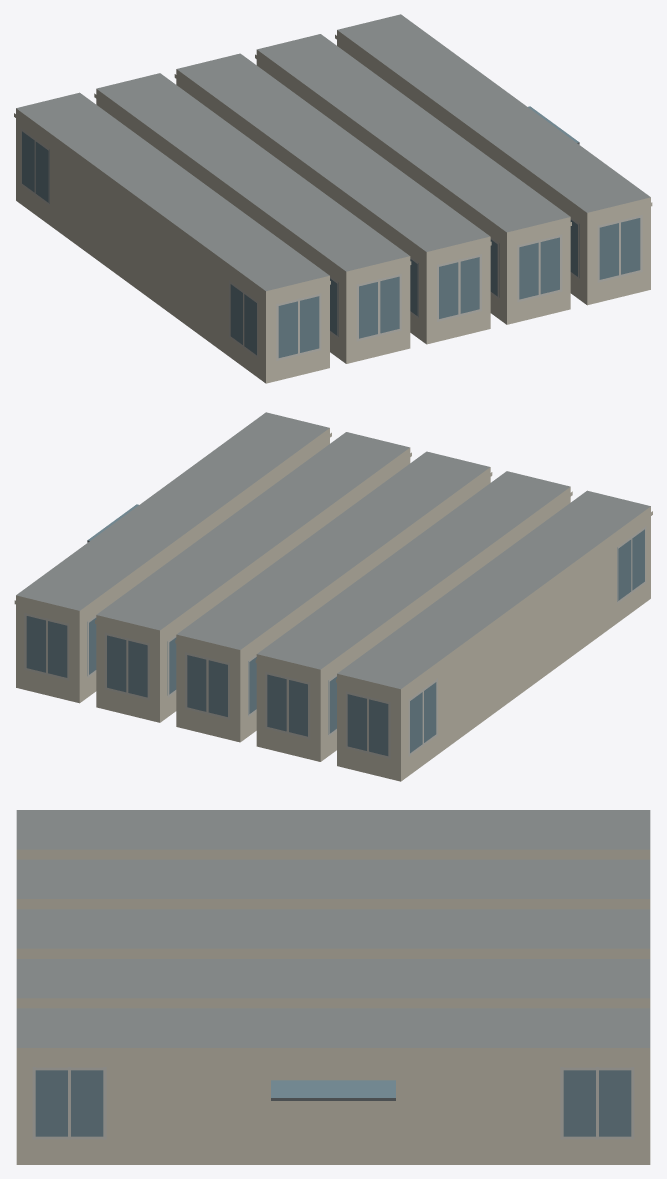
3 renders of one model, top to bottom at view 1: azimuth 30°, elevation 25°; view 2: azimuth 150°, elevation 25°; view 3: azimuth 270°, elevation 25°, orthographic. The views are drawn at different scales.
Parts seen in each view (by area): view 1: buildings_s_-7_-7_Standing_Seam_Roof, buildings_s_-7_-7_Warm_Limestone, buildings_s_-7_-7_Recessed_Blue_Glass, buildings_s_-7_-7_Window_Stone_Frame; view 2: buildings_s_-7_-7_Standing_Seam_Roof, buildings_s_-7_-7_Warm_Limestone, buildings_s_-7_-7_Recessed_Blue_Glass, buildings_s_-7_-7_Window_Stone_Frame; view 3: buildings_s_-7_-7_Standing_Seam_Roof, buildings_s_-7_-7_Warm_Limestone, buildings_s_-7_-7_Recessed_Blue_Glass, buildings_s_-7_-7_Window_Stone_Frame.
Boxes of the visible parts, x1,y1,x2,y2 form: buildings_s_-7_-7_Standing_Seam_Roof: (16,14,650,291); buildings_s_-7_-7_Warm_Limestone: (14,30,652,383); buildings_s_-7_-7_Recessed_Blue_Glass: (22,106,640,357); buildings_s_-7_-7_Window_Stone_Frame: (20,128,642,360); buildings_s_-7_-7_Standing_Seam_Roof: (16,412,650,689); buildings_s_-7_-7_Warm_Limestone: (14,428,652,781); buildings_s_-7_-7_Recessed_Blue_Glass: (26,504,644,755); buildings_s_-7_-7_Window_Stone_Frame: (24,526,646,758); buildings_s_-7_-7_Standing_Seam_Roof: (16,810,650,1047); buildings_s_-7_-7_Warm_Limestone: (16,849,650,1164); buildings_s_-7_-7_Recessed_Blue_Glass: (35,1070,631,1136); buildings_s_-7_-7_Window_Stone_Frame: (32,1067,634,1139).
Size of the model in its own units: 25.9 by 5.5 by 27.22.
